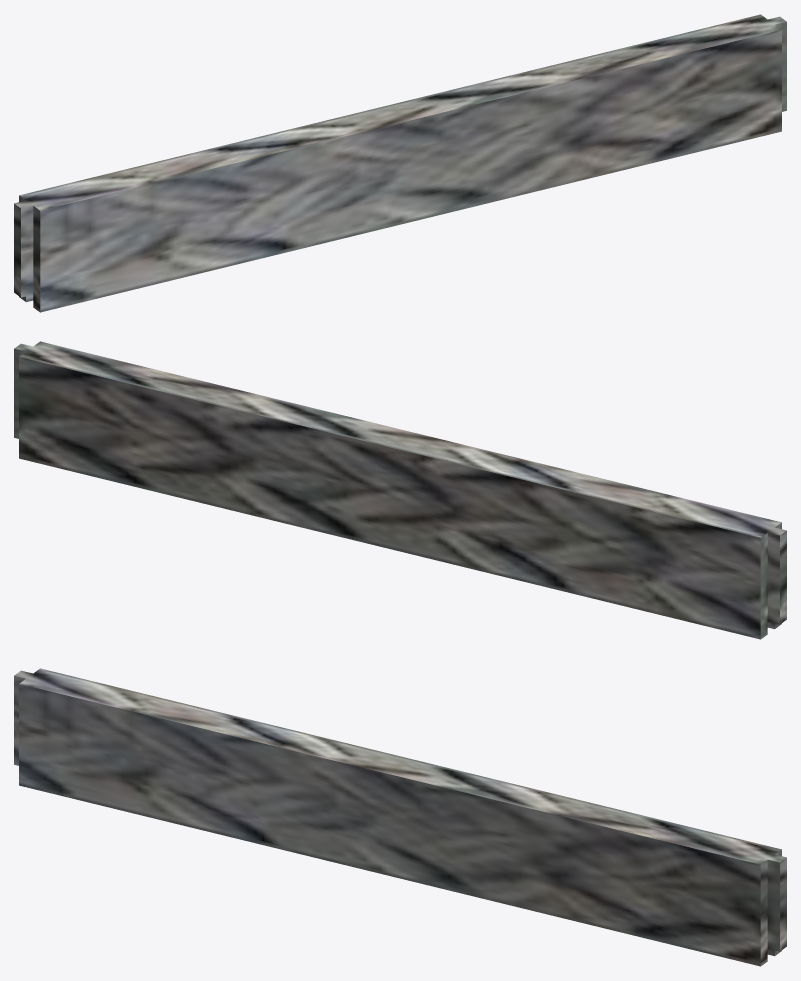
Rendered from original-49.obj.
3 renders of one model, top to bottom at view 1: azimuth 30°, elevation 25°; view 2: azimuth 150°, elevation 25°; view 3: azimuth 330°, elevation 25°, orthographic.
Visible parts, largest first — view 1: front_back_upper_support2/front_back_upper_support/mesh52/mesh52; view 2: front_back_upper_support2/front_back_upper_support/mesh52/mesh52; view 3: front_back_upper_support2/front_back_upper_support/mesh52/mesh52.
Boxes of the visible parts, box(x1,y1,x2,y2) form: front_back_upper_support2/front_back_upper_support/mesh52/mesh52: box(14, 14, 786, 312); front_back_upper_support2/front_back_upper_support/mesh52/mesh52: box(14, 341, 786, 639); front_back_upper_support2/front_back_upper_support/mesh52/mesh52: box(14, 668, 786, 966).
Size of the model in its own units: 0.6884 by 0.0874 by 0.0328.
